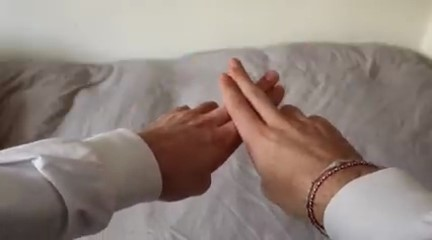F: (126, 46, 352, 210)
